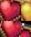heart: (0, 0, 21, 21), (0, 21, 21, 37), (21, 21, 31, 37)
